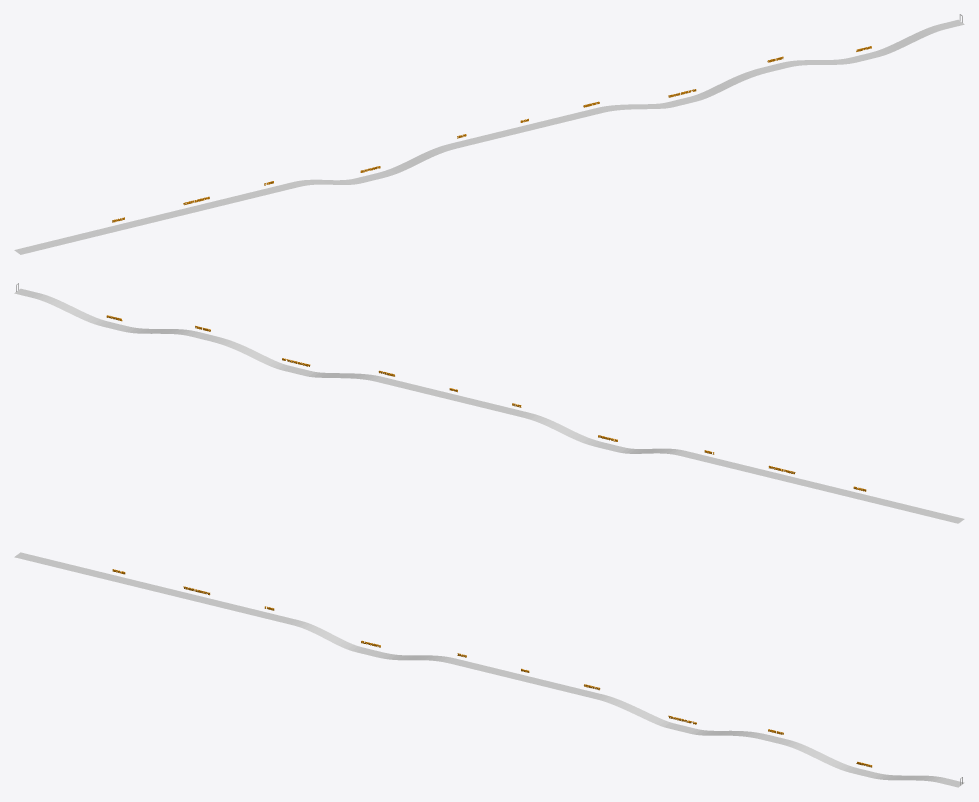
The picture shows the model from 3 angles, top to bottom: view 1: azimuth 30°, elevation 25°; view 2: azimuth 150°, elevation 25°; view 3: azimuth 330°, elevation 25°; orthographic projection.
Parts seen in each view (by area): view 1: ROAD; view 2: ROAD; view 3: ROAD.
Part boxes in pixels (bbox=[...]): ROAD: bbox=[14, 19, 964, 254]; ROAD: bbox=[14, 288, 964, 523]; ROAD: bbox=[14, 552, 964, 787].
Bounding box in the file's own units: 427 × 8.78 × 5.22.
